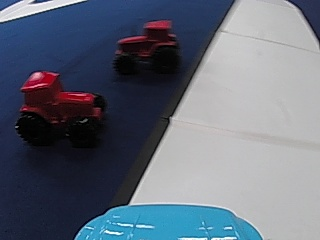tractor: (15, 68, 108, 146), (115, 17, 179, 75)
